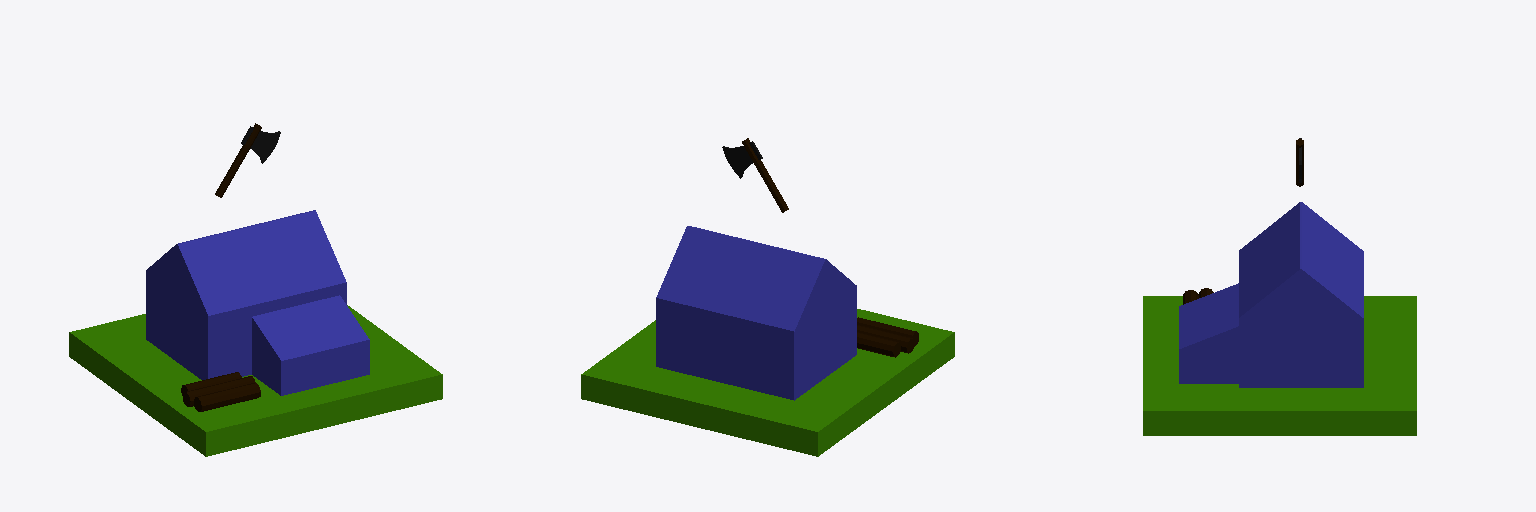
The model's file is Woodworker1.obj.
3 views of the same model, side by side, from view 1: azimuth 30°, elevation 25°; view 2: azimuth 150°, elevation 25°; view 3: azimuth 270°, elevation 25° (orthographic).
Parts seen in each view (by area): view 1: Box693, Tilebase106, Cylinder034, Box694, Cylinder035, Cylinder033; view 2: Box693, Tilebase106, Cylinder032, Box694, Cylinder035, Cylinder033; view 3: Box693, Tilebase106.
Part boxes in pixels (x1,y1,x2,y2): Box693: (146, 210, 369, 395); Tilebase106: (69, 305, 442, 456); Cylinder034: (194, 383, 260, 411); Box694: (241, 126, 280, 163); Cylinder035: (215, 123, 261, 197); Cylinder033: (183, 376, 255, 406); Box693: (656, 226, 856, 400); Tilebase106: (581, 309, 954, 456); Cylinder032: (857, 332, 900, 357); Box694: (722, 141, 762, 178); Cylinder035: (742, 138, 788, 212); Cylinder033: (857, 325, 914, 353); Box693: (1179, 202, 1363, 387); Tilebase106: (1143, 296, 1416, 435).
Size of the model in its own units: 10 by 9.86 by 10.